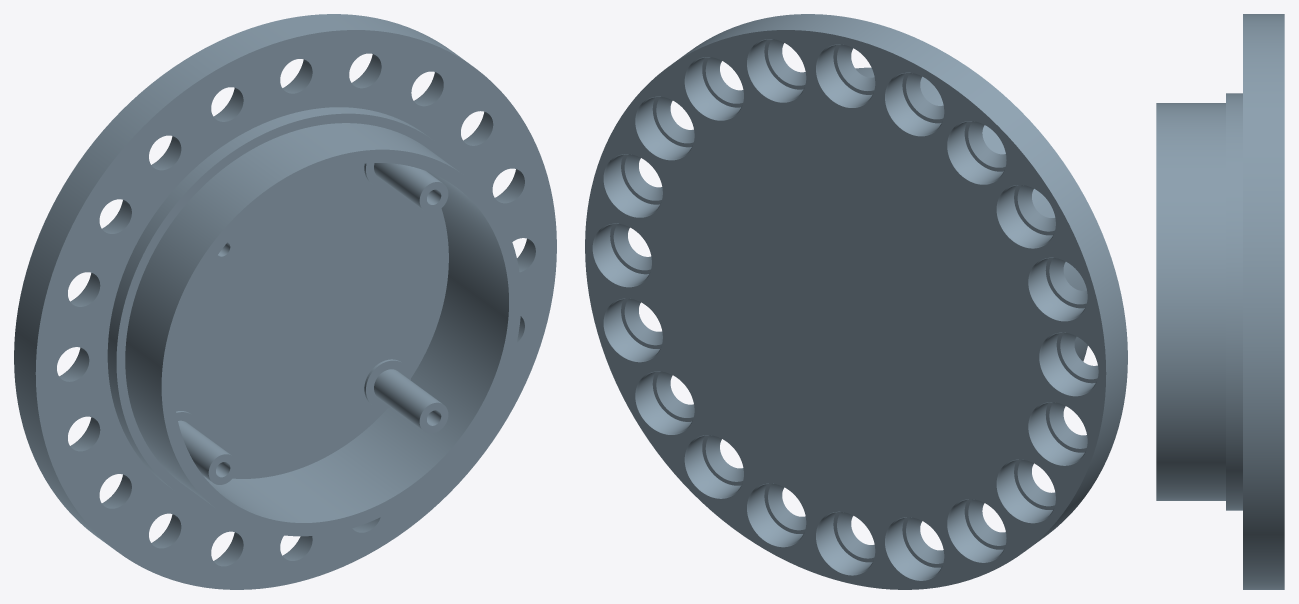
Rendered from Base_V3_Discs.obj.
3 renders of one model, left to right at view 1: azimuth 30°, elevation 25°; view 2: azimuth 150°, elevation 25°; view 3: azimuth 270°, elevation 25°, orthographic. The views are drawn at different scales.
Parts seen in each view (by area): view 1: Base_V3_Discs; view 2: Base_V3_Discs; view 3: Base_V3_Discs.
Boxes of the visible parts, x1,y1,x2,y2 form: Base_V3_Discs: (14,14,556,589); Base_V3_Discs: (585,14,1127,589); Base_V3_Discs: (1156,14,1284,589).
Size of the model in its own units: 58 by 58 by 12.9.
